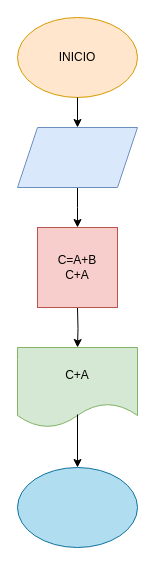
The diagram is 155 pixels wide and 565 high, and some of its shapes have lost their labels. Here are the shapes that lost their labels. From the top down, the centre of each, then its label:
At (77,157): "VAR=A+B VAR=C+A".
At (77,507): "FIN".
